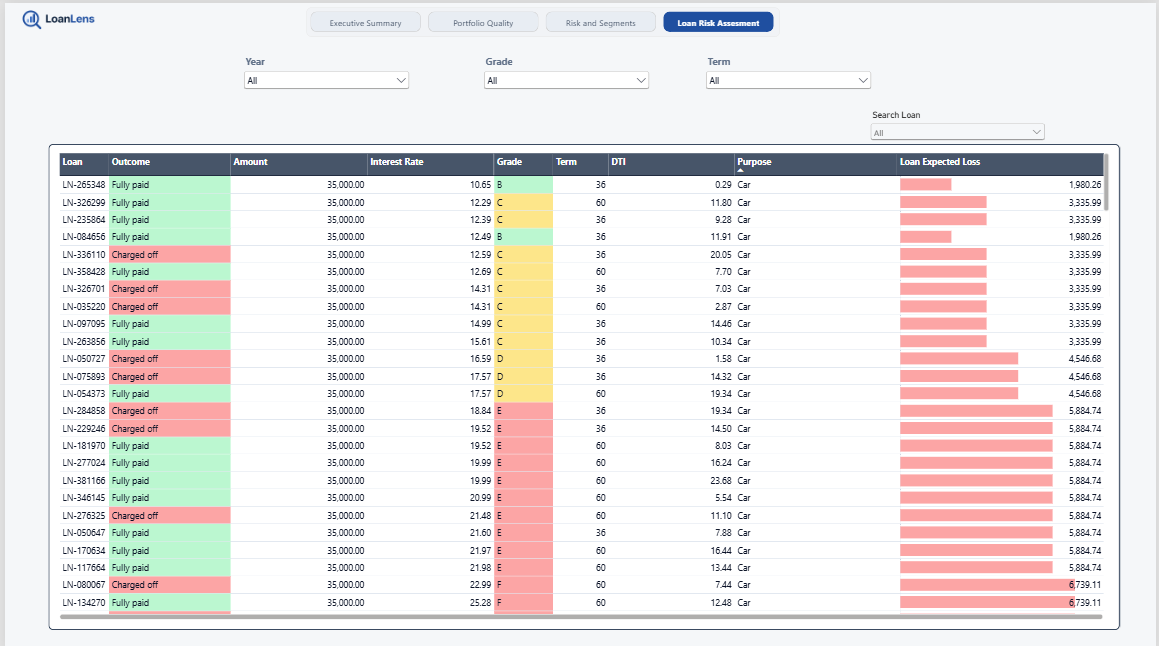

The dashboard page shown, as its layout file describes it:
{"tool":"powerbi","page":{"name":"Loan Risk Assesment","canvas":[1920,1080],"ordinal":3},"visuals":[{"type":"tableEx","fields":{"Values":["fact_loans.Loan Ref","_Measures.Outcome","fact_loans.requested_amount","fact_loans.interest_rate_pct","dim_grade.credit_grade","dim_term.term_months","fact_loans.debt_to_income_pct","dim_purpose.purpose_name","_Measures.Loan Expected Loss"]},"box":[72.5,235,1785,810],"z":0},{"type":"pageNavigator","title":"Execut","box":[501.7,8.3,788.6,48.6],"z":1},{"type":"image","box":[16,8,152,40],"z":2},{"type":"slicer","fields":{"Values":["dim_date.year"]},"box":[384.3,78.6,301.4,82.9],"z":3},{"type":"slicer","fields":{"Values":["dim_grade.credit_grade"]},"box":[785.7,78.6,301.4,85.7],"z":4},{"type":"slicer","fields":{"Values":["dim_term.term_label"]},"box":[1154.3,78.6,301.4,107.1],"z":5},{"type":"slicer","fields":{"Values":["fact_loans.Loan Ref"]},"box":[1438.5,176.9,300,60],"z":6}]}

Visuals, with their boxes in screenshot pixels (x1, y1, x2, y2), scaled from the page's 1920x1080 canvas onto the 1159x646 screenshot:
tableEx - fact_loans.Loan Ref x _Measures.Outcome: (44,141,1121,625)
"Execut" pageNavigator: (303,5,779,34)
image: (10,5,101,29)
slicer - dim_date.year: (232,47,414,97)
slicer - dim_grade.credit_grade: (474,47,656,98)
slicer - dim_term.term_label: (697,47,879,111)
slicer - fact_loans.Loan Ref: (868,106,1049,142)
